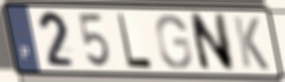2: (36, 9, 80, 70)
5: (76, 11, 112, 69)
G: (154, 13, 194, 71)
K: (231, 14, 271, 72)
L: (116, 11, 154, 71)
N: (187, 12, 237, 74)
